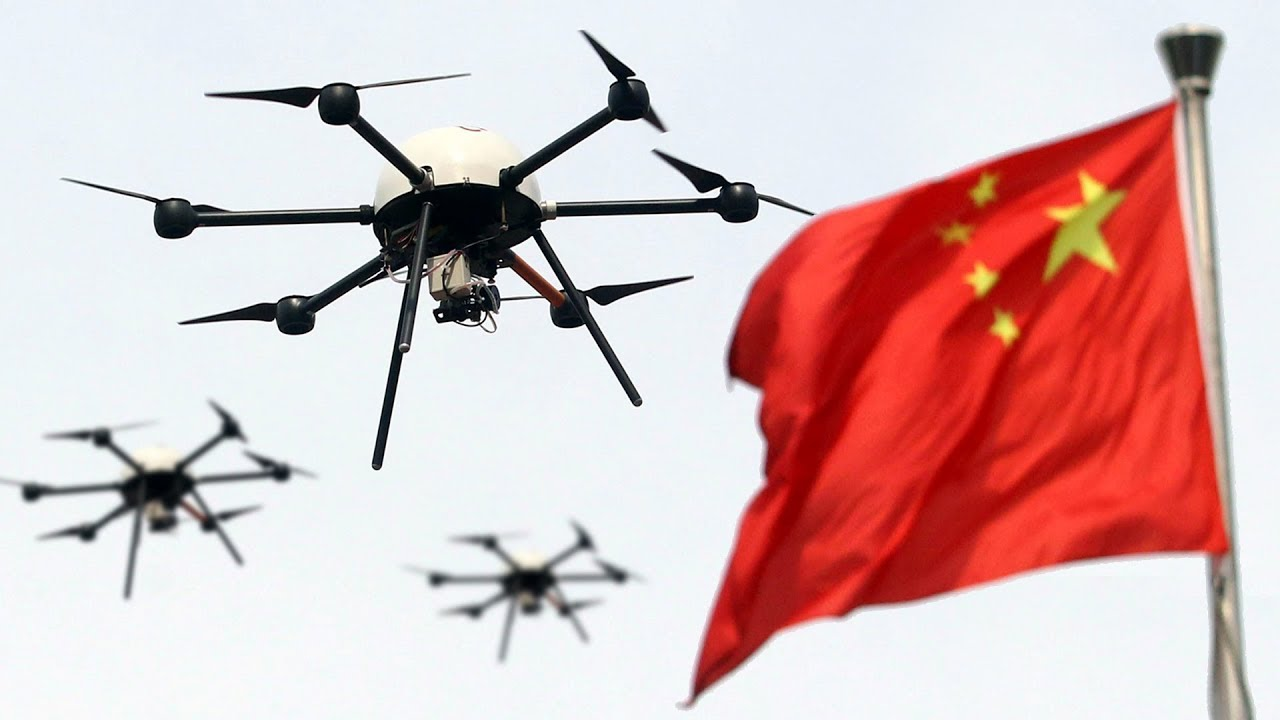drone: (55, 29, 816, 476), (1, 400, 324, 603), (398, 516, 654, 666)
